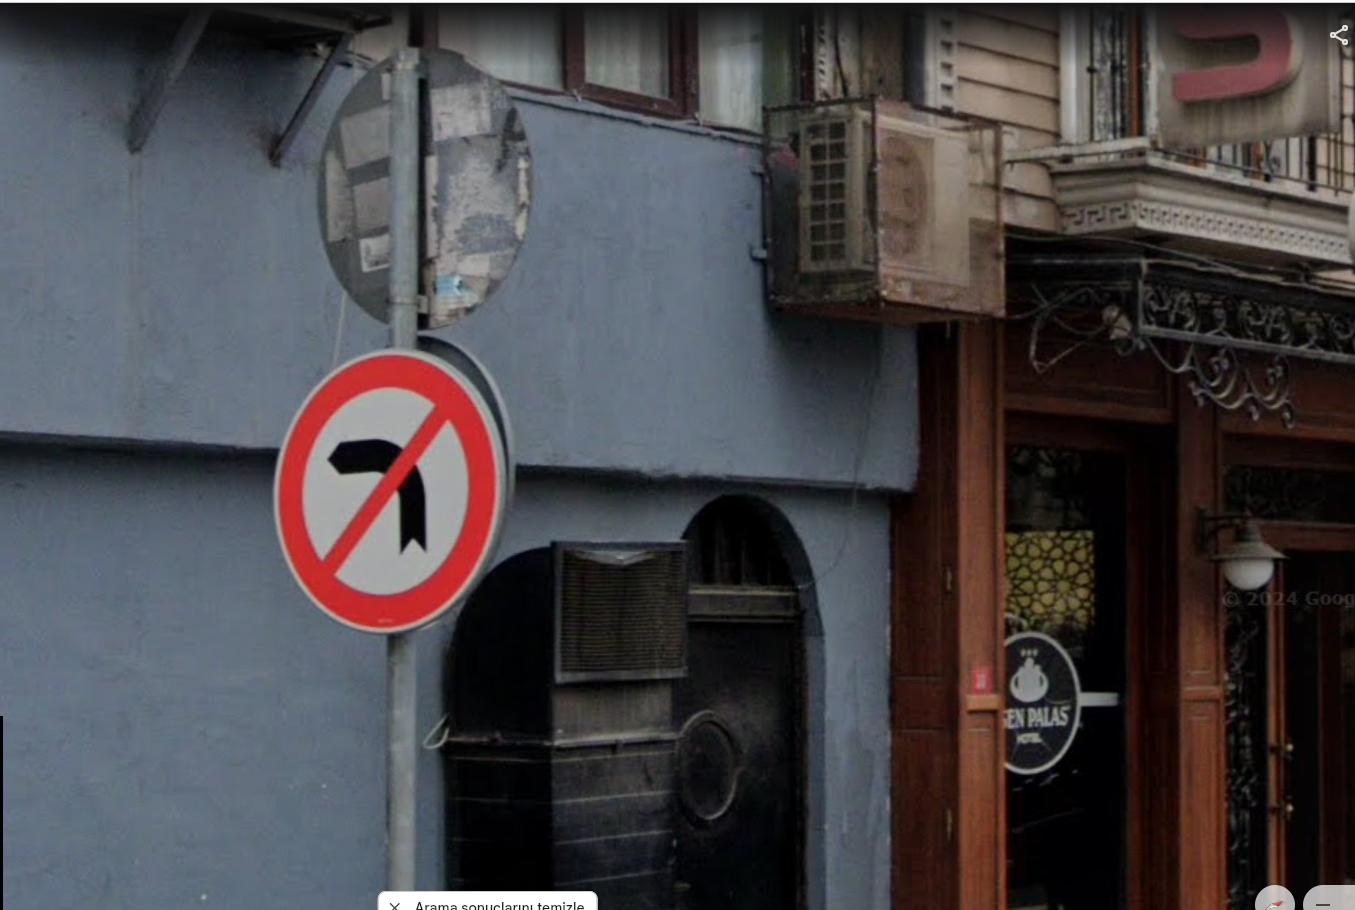leftturnsareforbidden: (284, 359, 489, 627)
